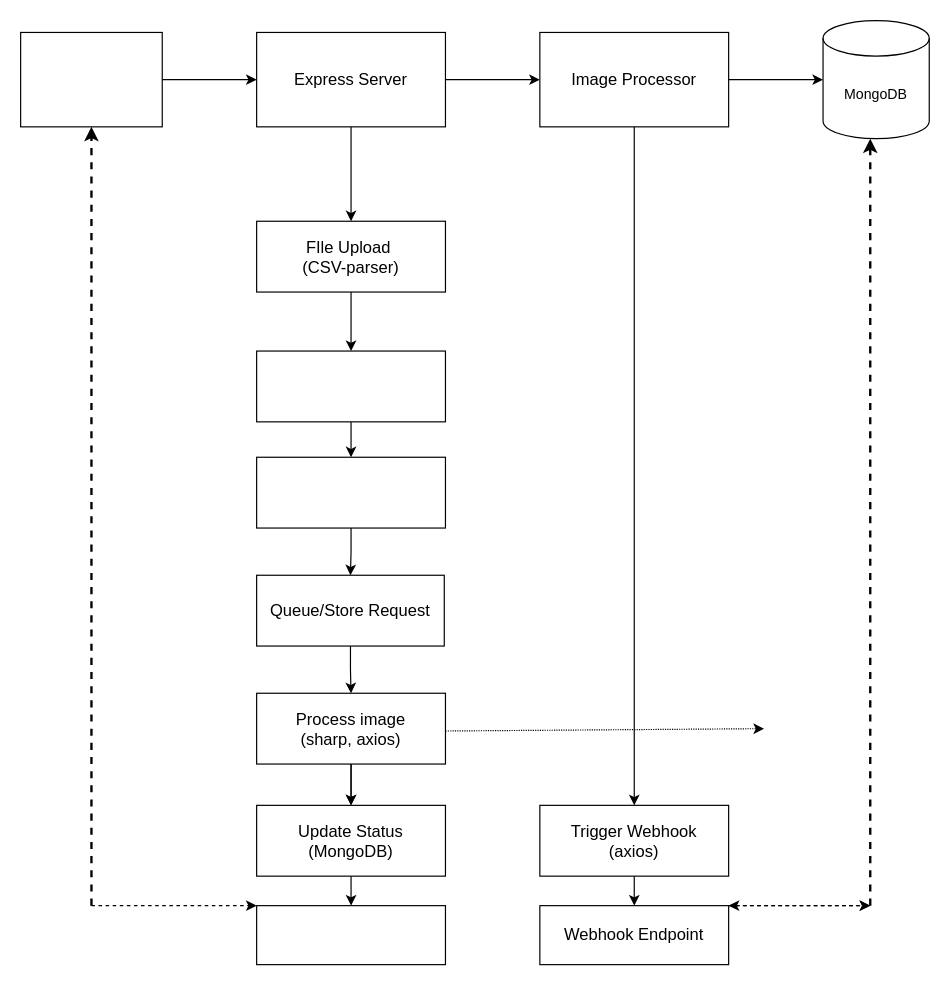
Image size: 950x985. Some labels were removed from this diagram. Here are the shapes that lost their labels. From the top down, the centre of each, then its label:
At pixel 90 79: "Client".
At pixel 350 386: "Validation (CSV-parser)".
At pixel 350 492: "Request ID Generation".
At pixel 350 934: "Status Check".
